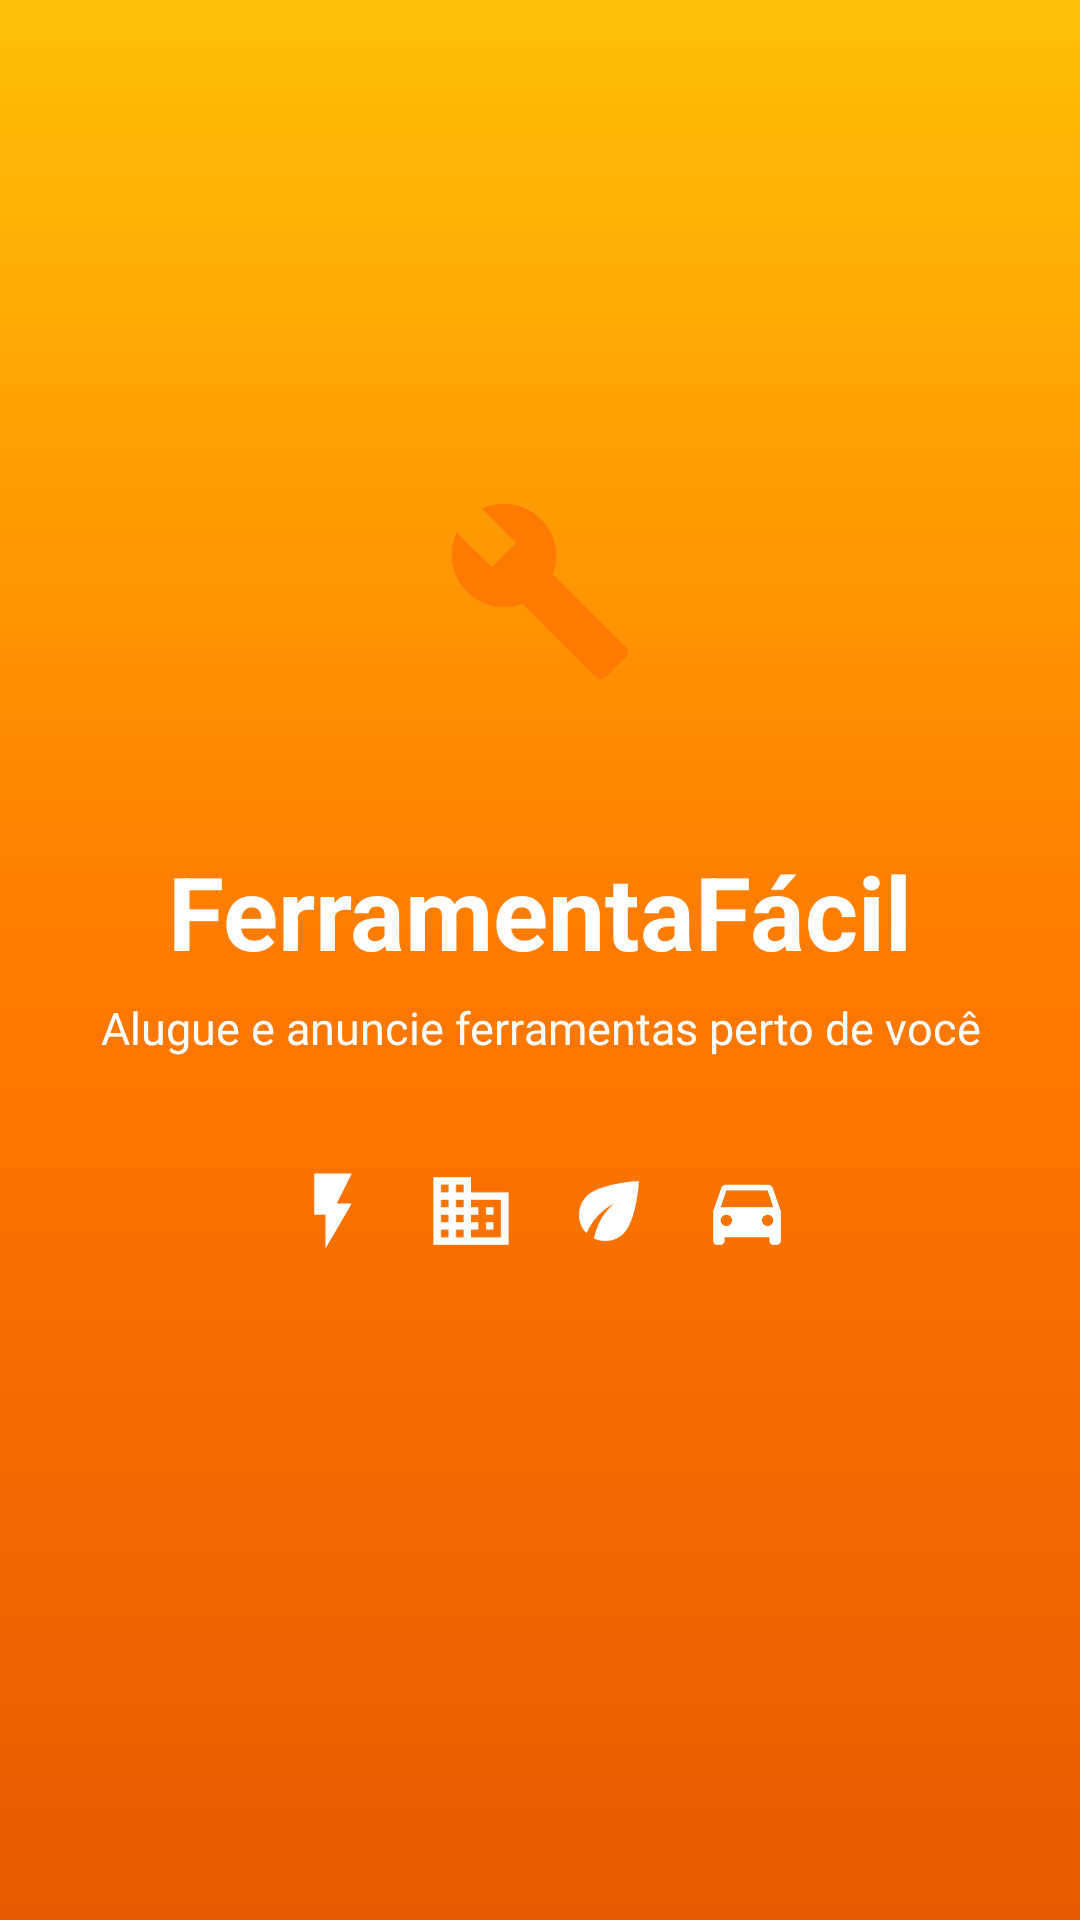

Where to tap for icons on this 1080w x 1920h app screen, as [x,y]:
bolt: [333,1210]
build: [540,591]
car: [747,1214]
domain: [471,1211]
eco: [609,1211]
